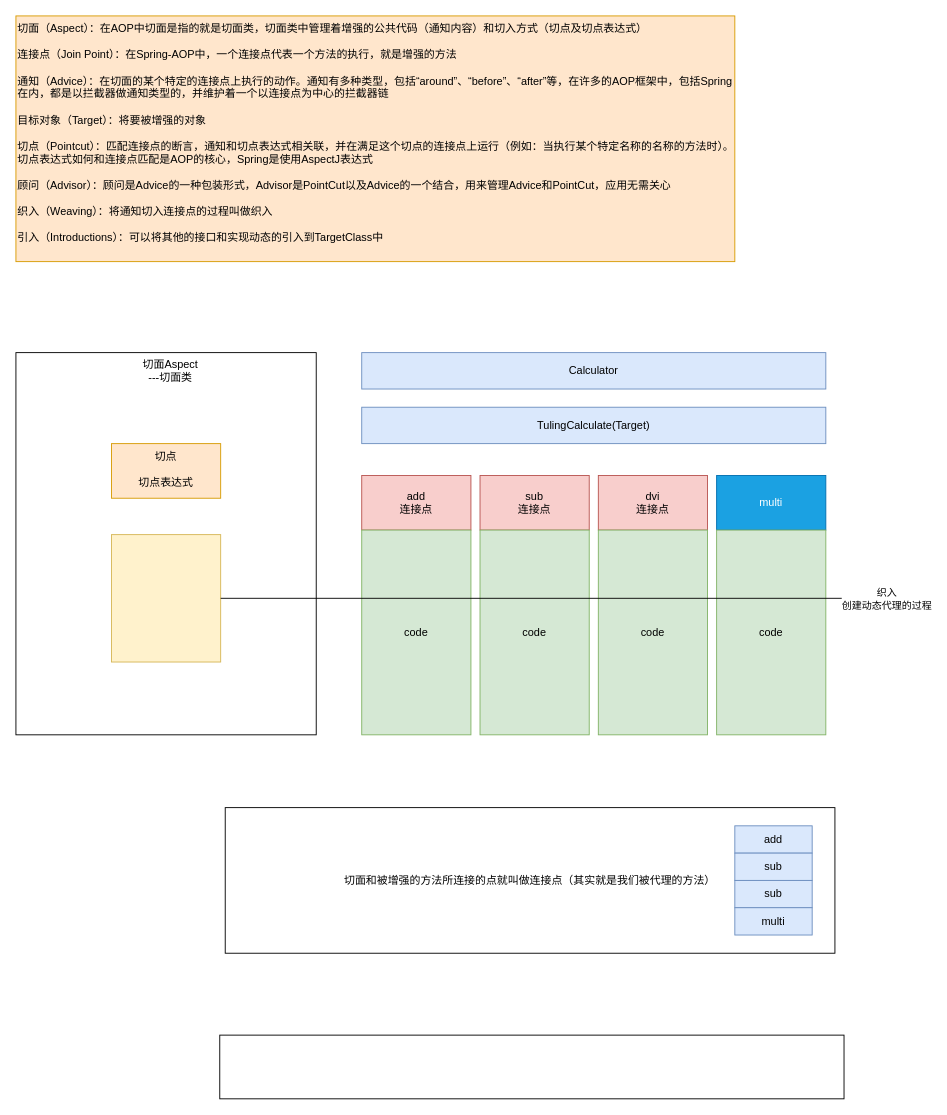
The diagram is 947 pixels wide and 1115 high, and some of its shapes have lost their labels. The centre of each missing label's shape, as x and y in pixels:
"PointCut用来执行被增强方法的方式，由他决定哪些方法需要被增强，那些方式不需要被增强，需要使用切点表达式" belongs at (531,1066).
"通知Advice 需要增强跟业务没有关系的公共代码" belongs at (166,598).
